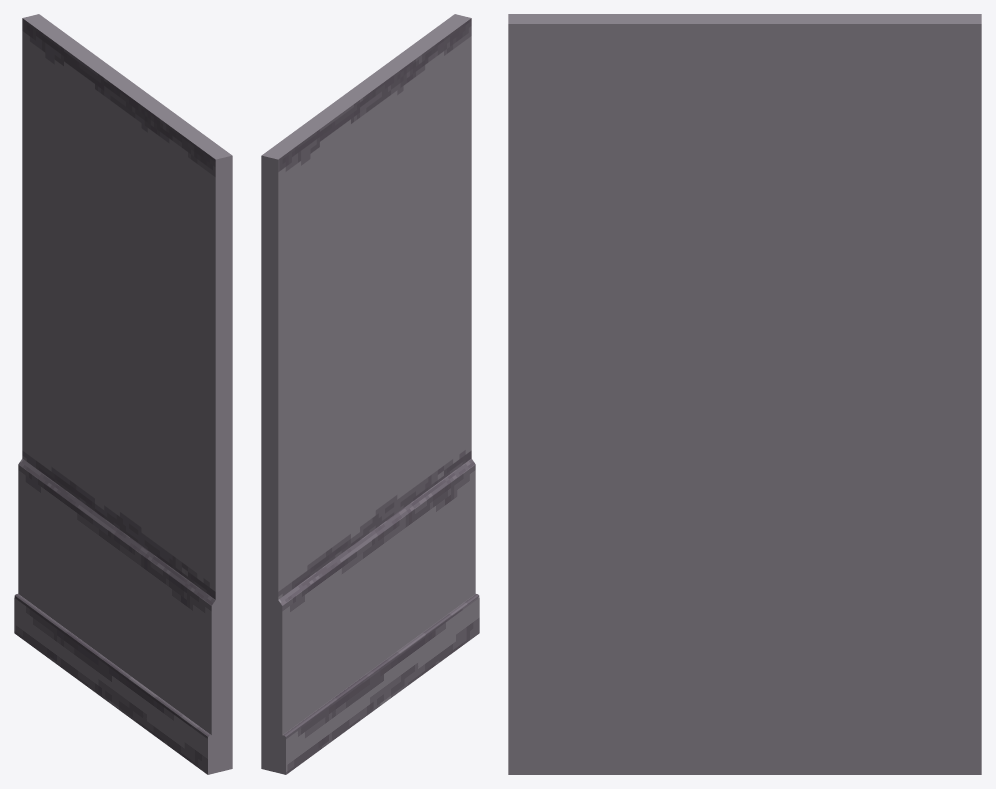
File: Pared.fbx
3 renders of one model, left to right at view 1: azimuth 30°, elevation 25°; view 2: azimuth 150°, elevation 25°; view 3: azimuth 270°, elevation 25°, orthographic. The views are drawn at different scales.
Parts seen in each view (by area): view 1: Pared; view 2: Pared; view 3: Pared.
Boxes of the visible parts, x1=… form: Pared: x1=14, y1=14, x2=232, y2=774; Pared: x1=261, y1=14, x2=479, y2=774; Pared: x1=508, y1=14, x2=981, y2=774.
Size of the model in its own units: 14.7 by 350 by 200.
1 material, 1 textured.
